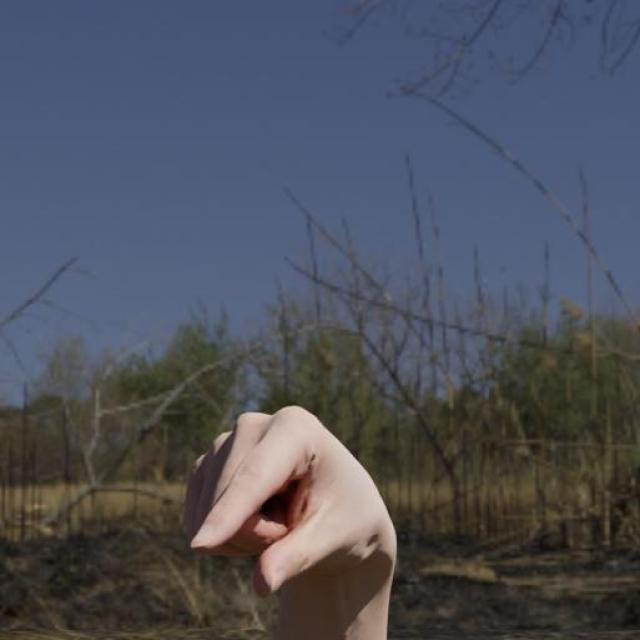Q: (180, 402, 403, 599)
